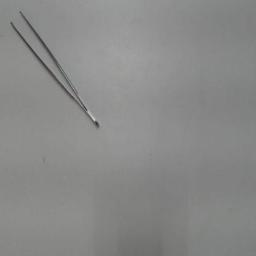Gillies Toothed Dissector: (7, 6, 103, 132)
